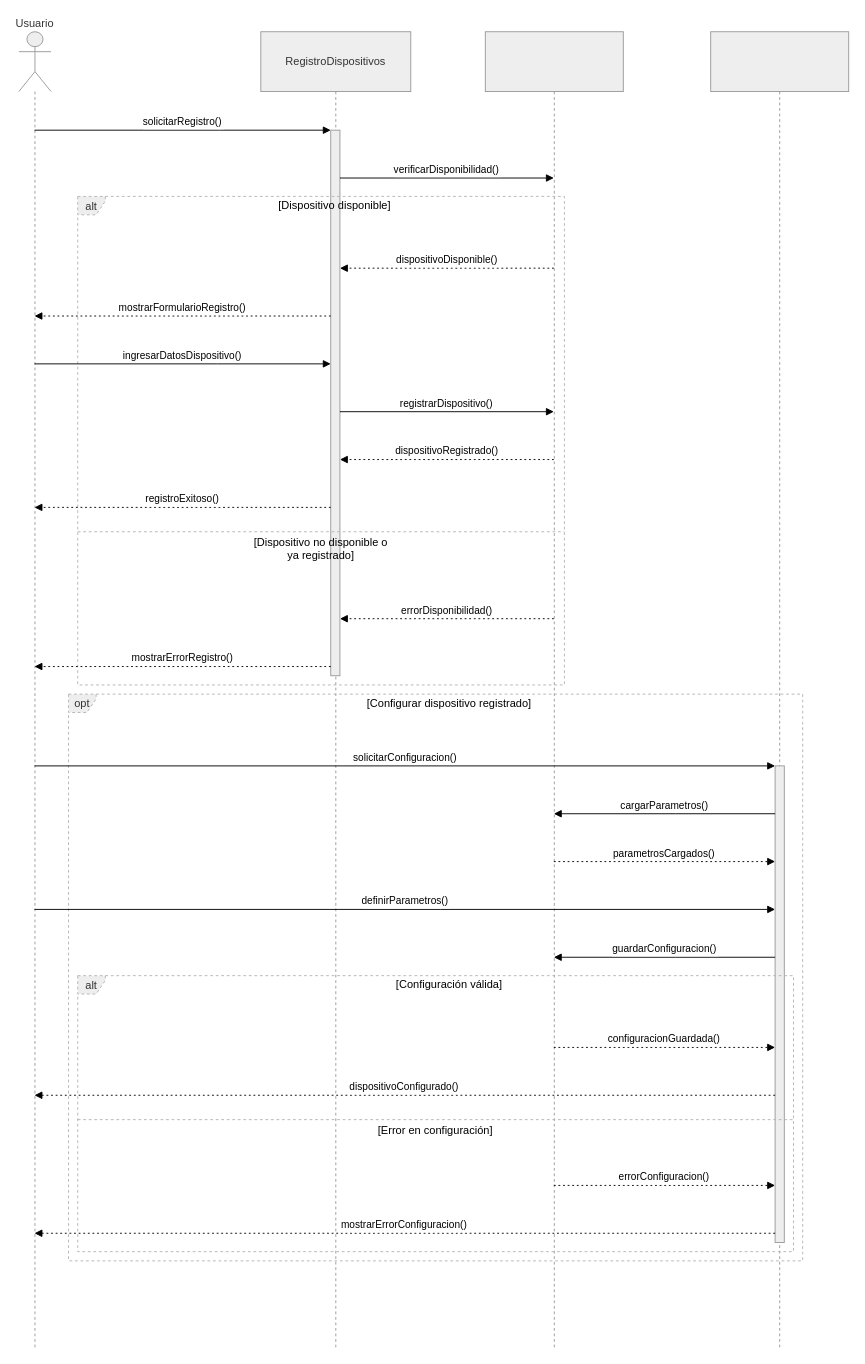
Image size: 865x1364. Some labels were removed from this diagram. The shapes that lost their labels are listed below. From the top down, each one's box as (x1, y1, x2, y2) in pixels, then its label:
(484, 31, 623, 1348): Sistema
(710, 31, 849, 1348): ConfigDispositivo
